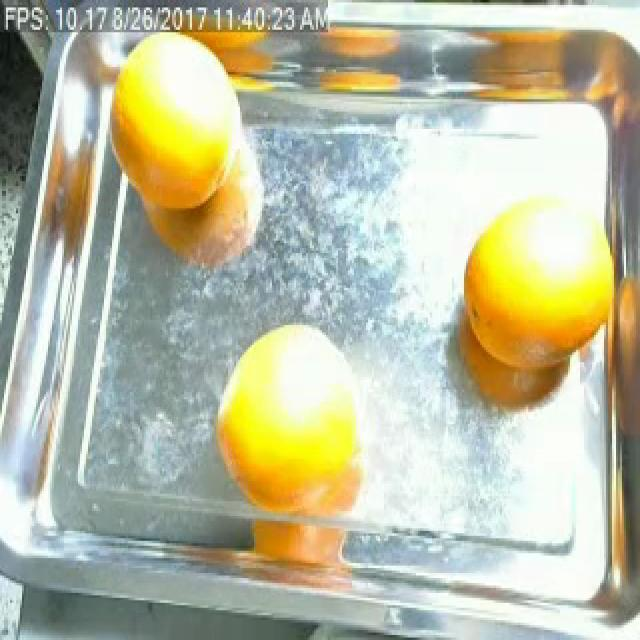Fruit: (310, 55, 416, 114)
